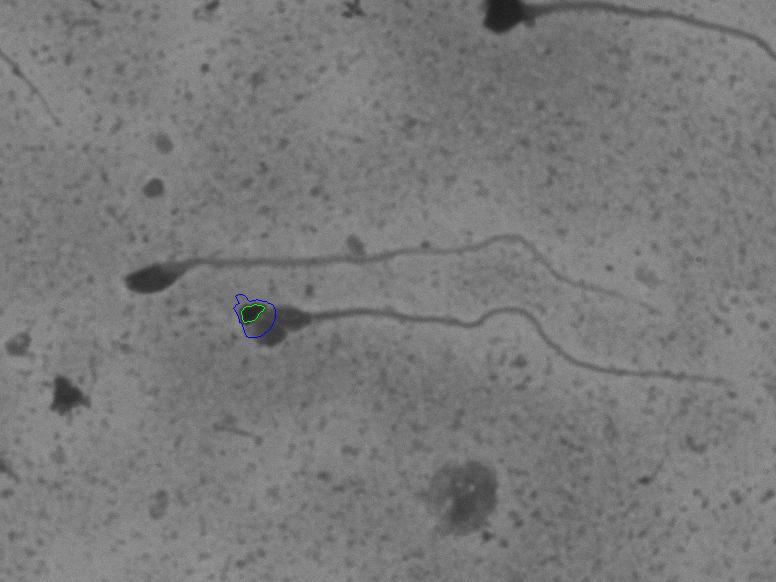Abnormal: (106, 210, 715, 314)
